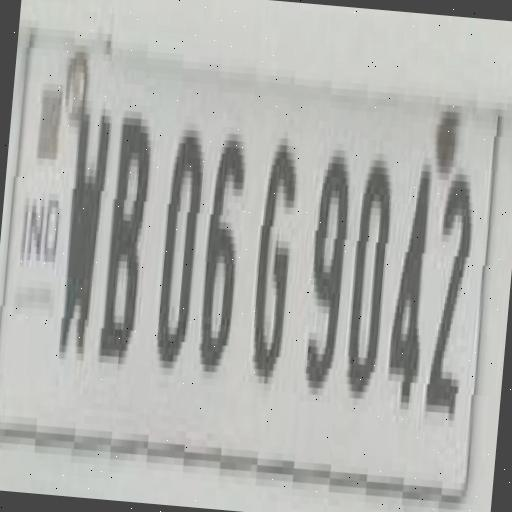number plate: (0, 0, 505, 490)
